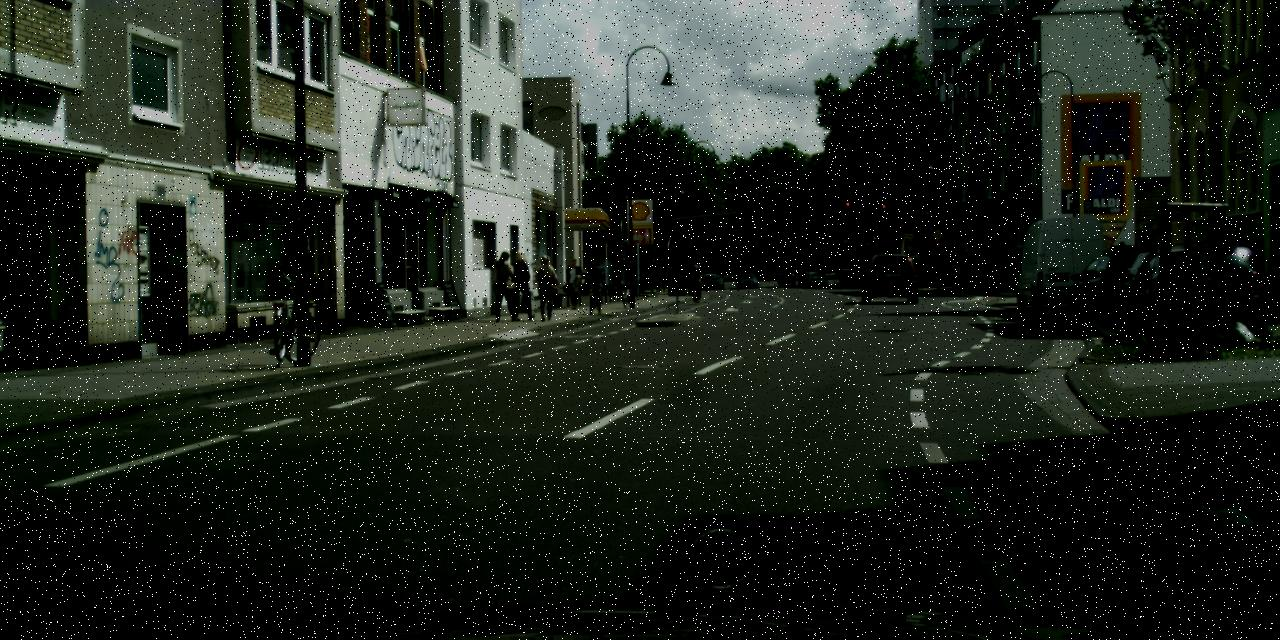ped: (490, 250, 520, 321), (508, 249, 536, 319), (532, 254, 558, 320), (563, 258, 584, 308), (1110, 241, 1129, 291), (585, 258, 604, 306), (1126, 244, 1144, 290), (688, 264, 701, 297), (942, 261, 952, 284)
